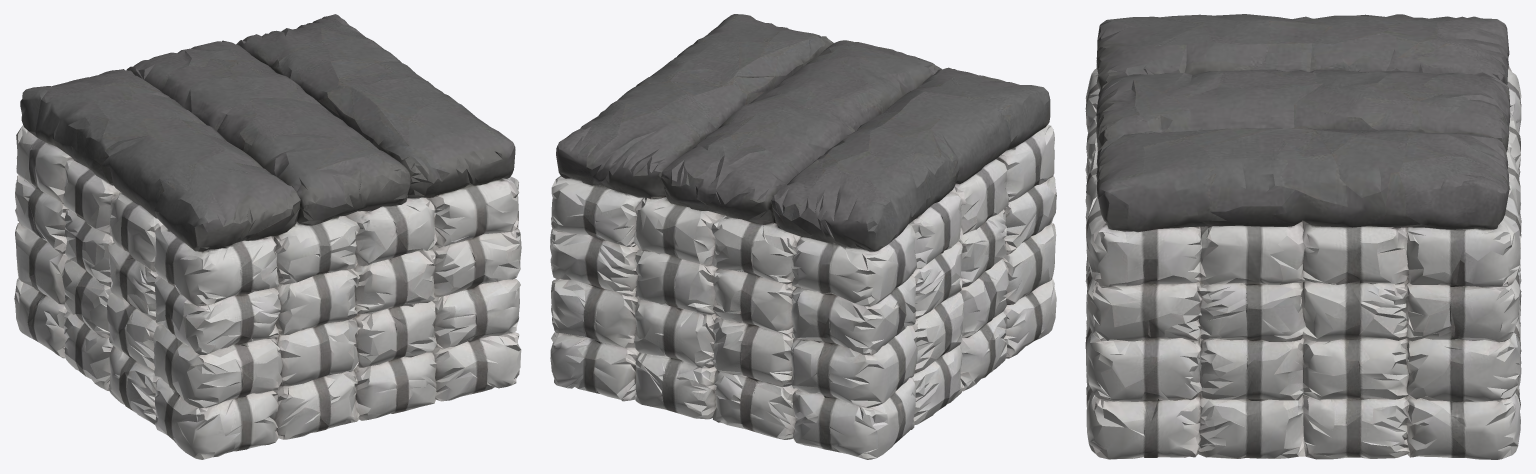
The model's file is w3hcushions.glb.
3 renders of one model, left to right at view 1: azimuth 30°, elevation 25°; view 2: azimuth 150°, elevation 25°; view 3: azimuth 270°, elevation 25°, orthographic. The views are drawn at different scales.
Visible parts, largest first — view 1: output_unwrapped; view 2: output_unwrapped; view 3: output_unwrapped.
Boxes of the visible parts, x1=… form: output_unwrapped: x1=14, y1=14, x2=521, y2=459; output_unwrapped: x1=550, y1=14, x2=1056, y2=459; output_unwrapped: x1=1085, y1=14, x2=1521, y2=459.
Size of the model in its own units: 1.6 by 1.17 by 1.6.
Materials: 1 (1 with a texture image).
